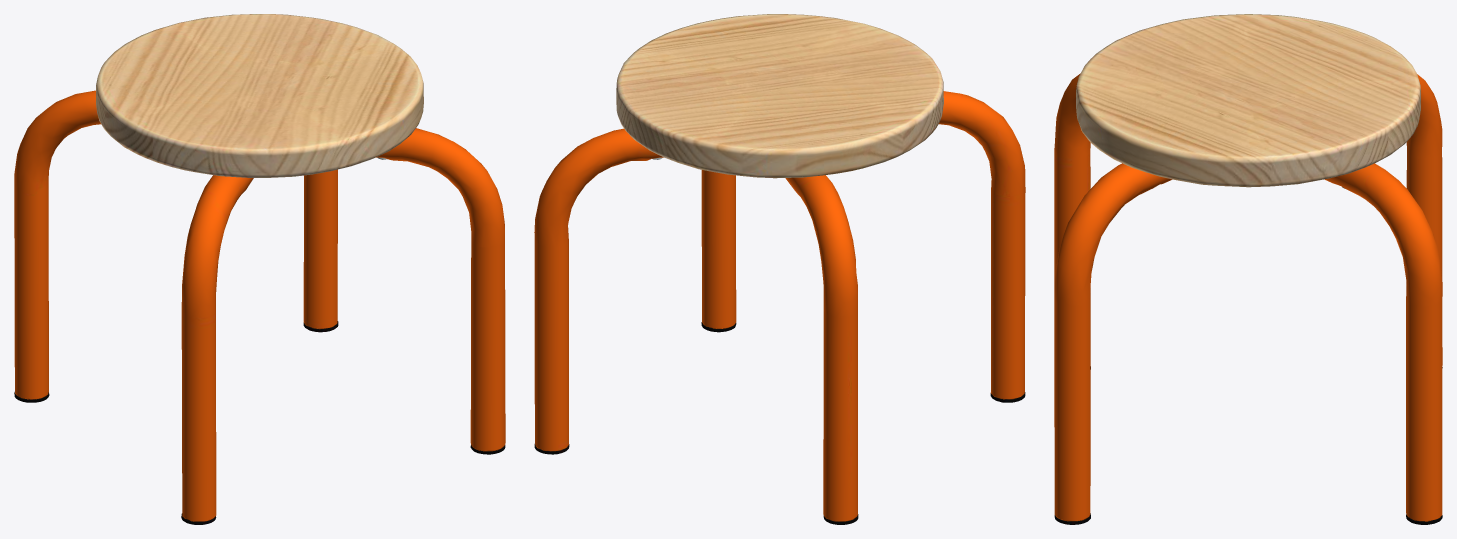
The picture shows the model from 3 angles, left to right: view 1: azimuth 30°, elevation 25°; view 2: azimuth 150°, elevation 25°; view 3: azimuth 270°, elevation 25°; orthographic projection. The views are drawn at different scales.
Parts seen in each view (by area): view 1: ASY_ART_60598973_S01_NV01; view 2: ASY_ART_60598973_S01_NV01; view 3: ASY_ART_60598973_S01_NV01.
Part boxes in pixels (x1,y1,x2,y2): ASY_ART_60598973_S01_NV01: [14, 14, 505, 524]; ASY_ART_60598973_S01_NV01: [534, 14, 1025, 524]; ASY_ART_60598973_S01_NV01: [1054, 14, 1442, 524].
Bounding box in the file's own units: 0.2705 × 0.2752 × 0.2708.
Materials: 1 (1 with a texture image).
